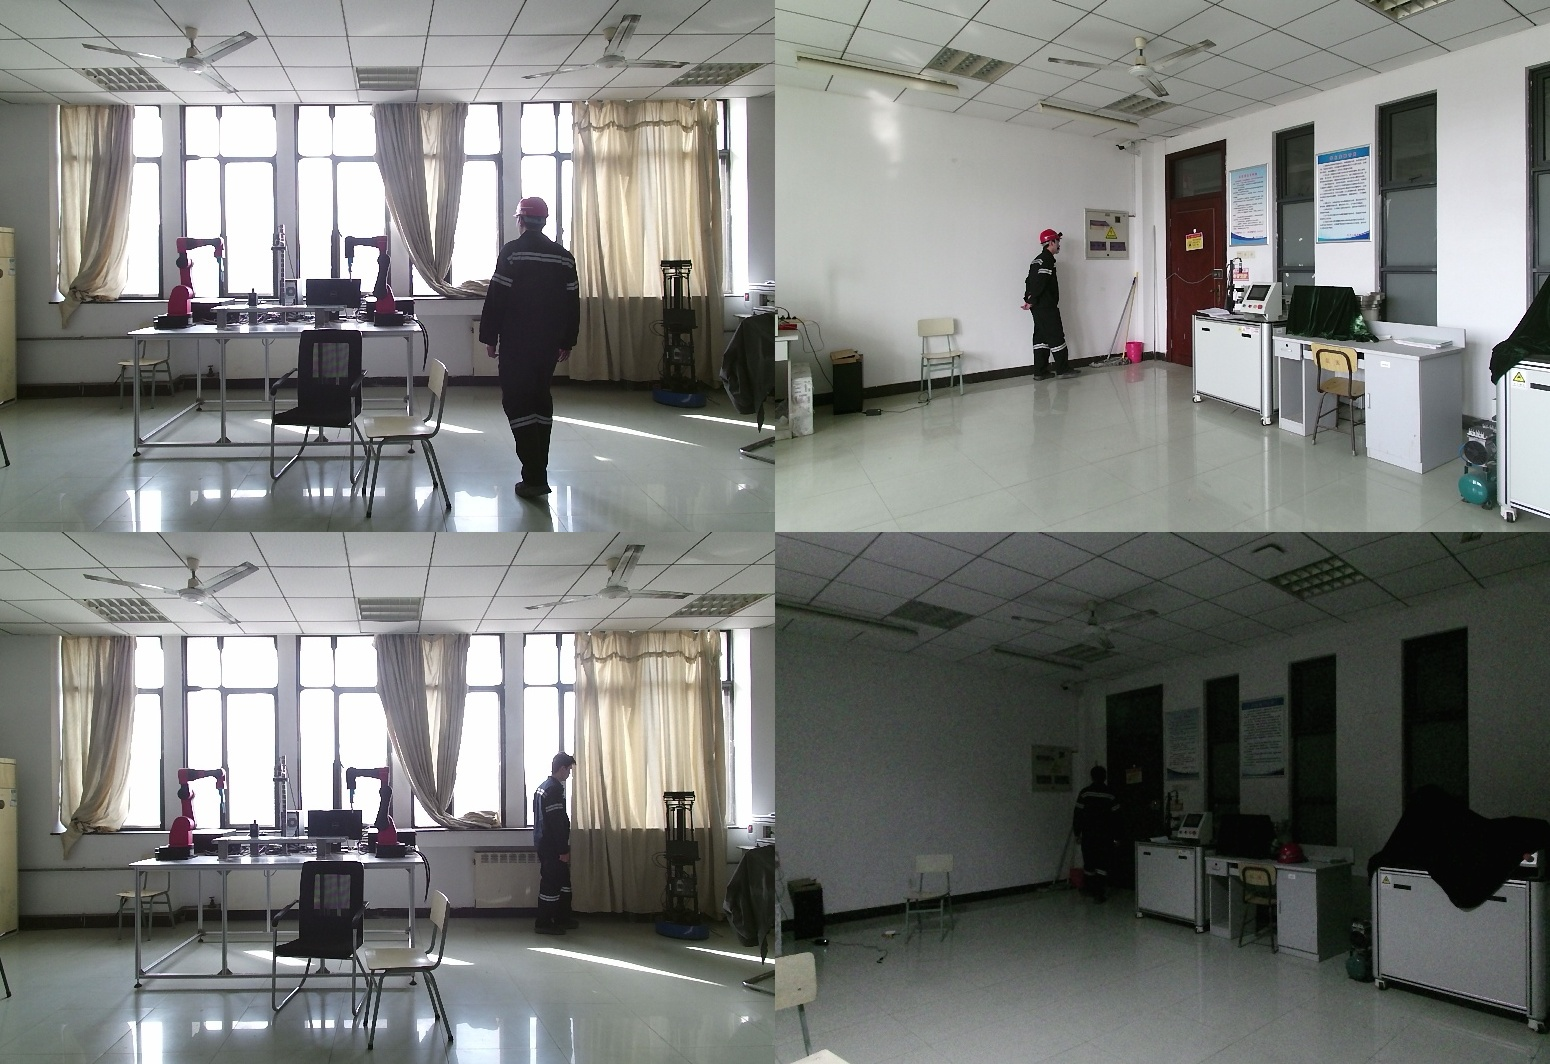person: (483, 195, 598, 500), (535, 758, 602, 941), (1070, 767, 1127, 908), (1021, 229, 1064, 385)
